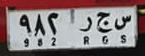2: (46, 11, 60, 34)
8: (33, 13, 46, 38)
9: (19, 13, 32, 36)
jeem: (94, 10, 113, 35)
raa: (77, 15, 92, 34)
seen: (113, 13, 132, 32)
